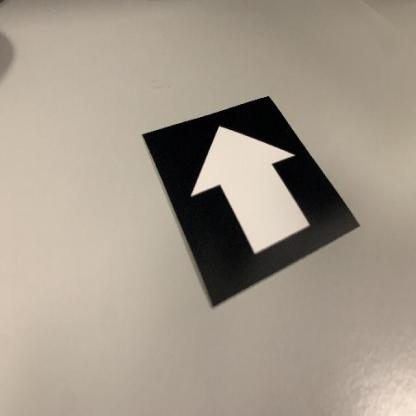up: (139, 94, 363, 314)
